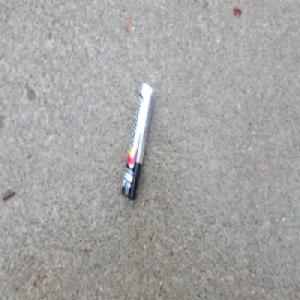Battery: (120, 81, 153, 201)
